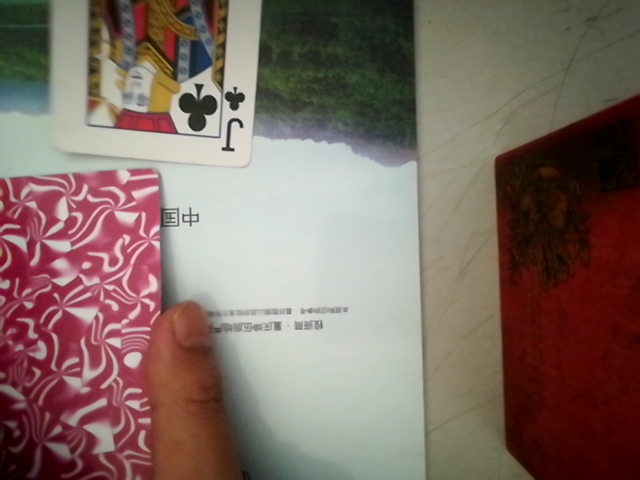mh j: (38, 0, 273, 172)
